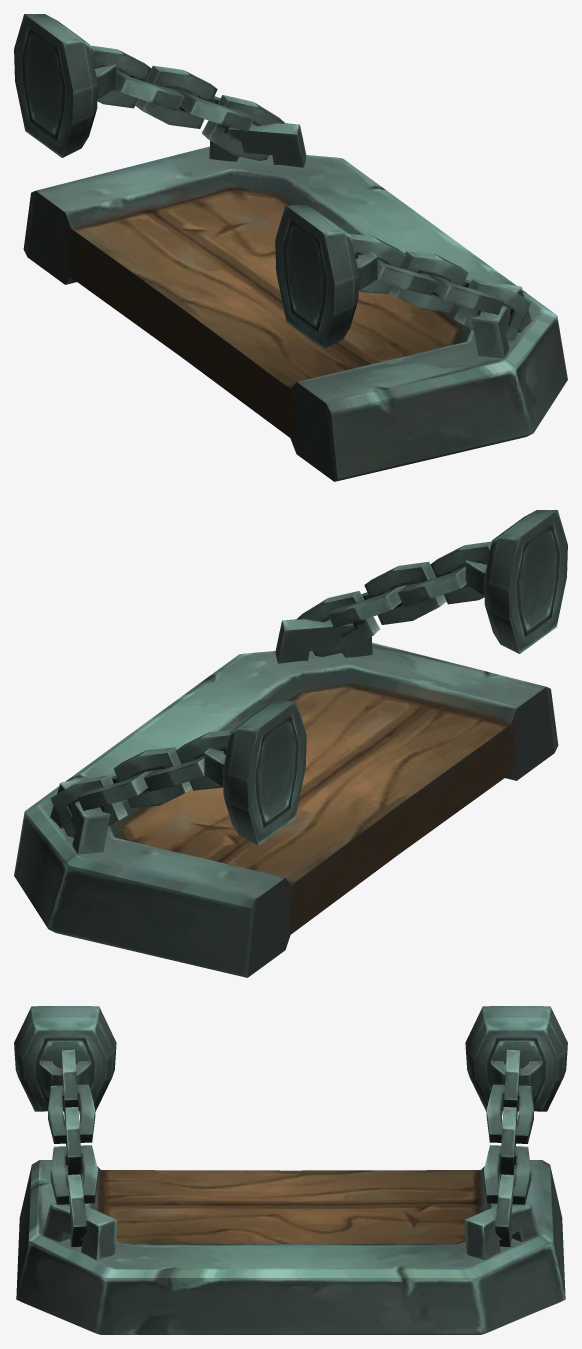
3 renders of one model, top to bottom at view 1: azimuth 30°, elevation 25°; view 2: azimuth 150°, elevation 25°; view 3: azimuth 270°, elevation 25°, orthographic. The views are drawn at different scales.
Size of the model in its own units: 2.14 by 1.8 by 4.23.
Materials: 2 (2 with a texture image).
